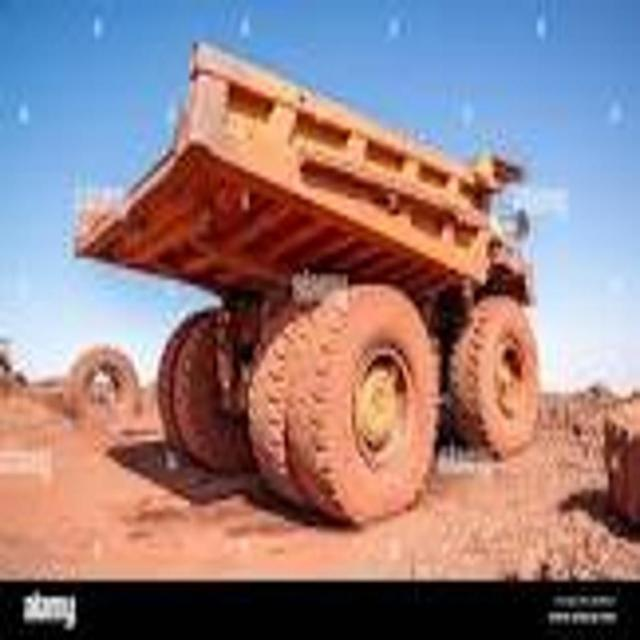dump_truck: (52, 28, 544, 530)
